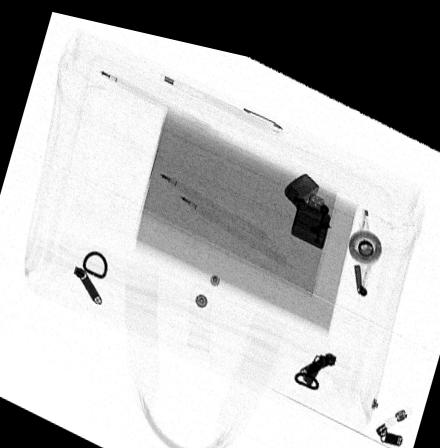Lighter: (283, 158, 332, 235)
